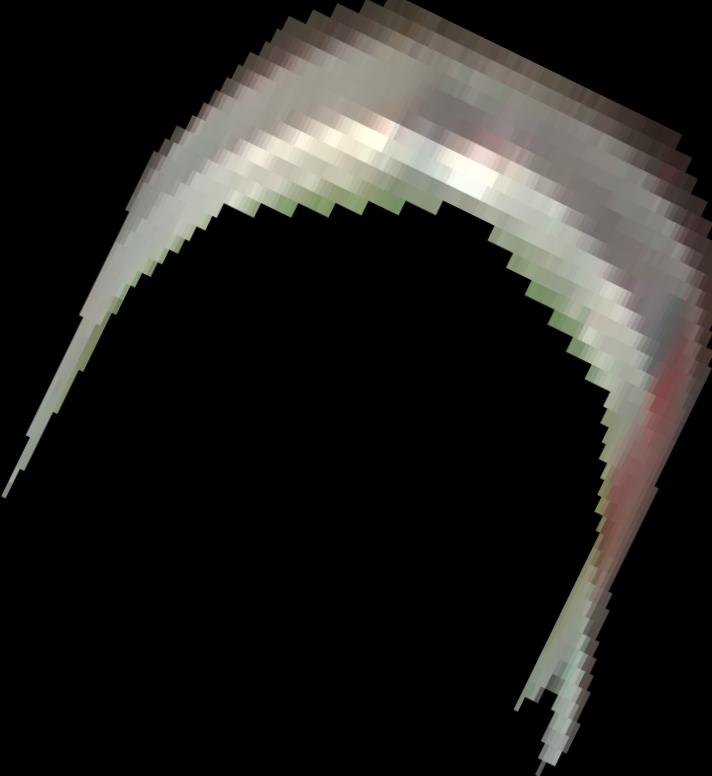head: (1, 1, 712, 775)
